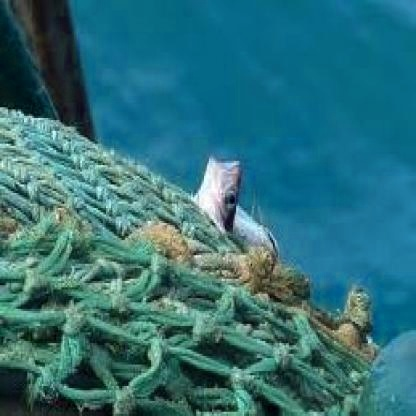net: (1, 128, 356, 416)
